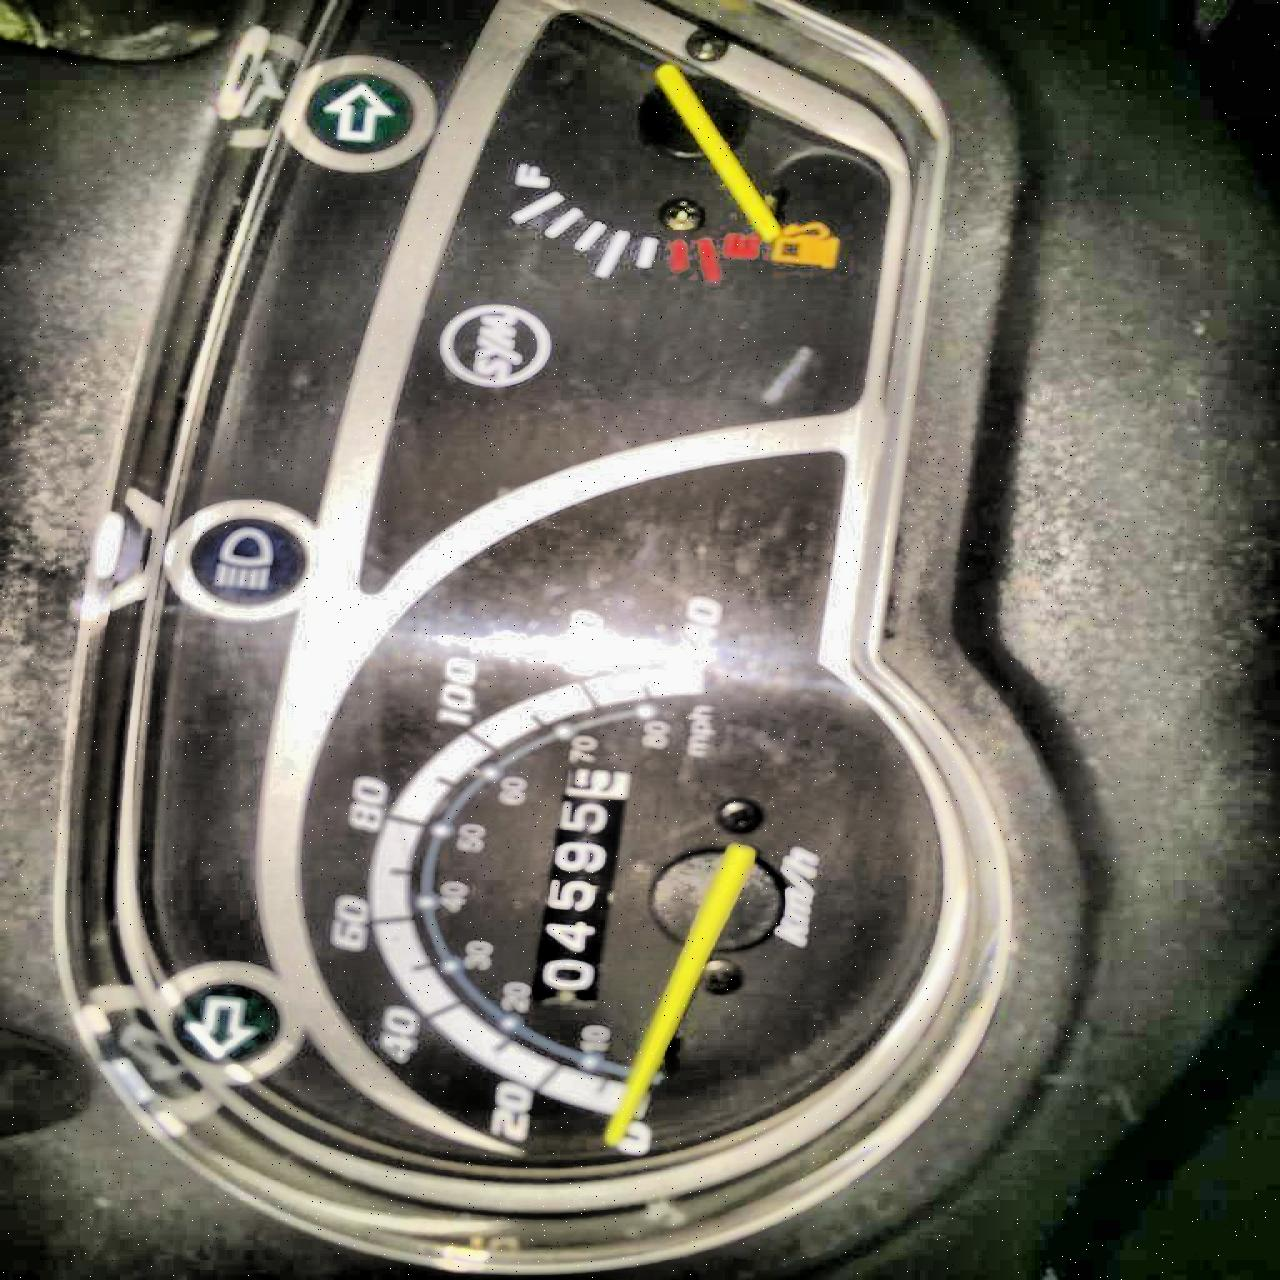0: (539, 958, 593, 990)
4: (543, 920, 594, 951)
5: (558, 798, 608, 833), (545, 878, 595, 912), (567, 764, 613, 791)
9: (553, 840, 607, 871)
odometer: (525, 765, 633, 1005)
